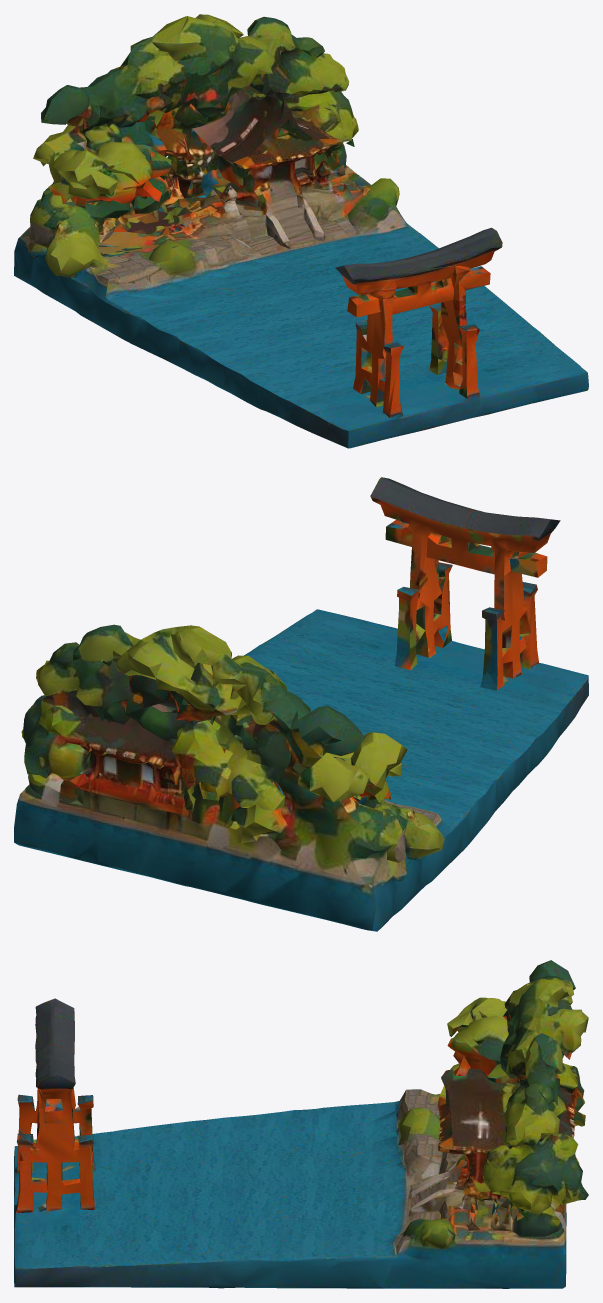
The model's file is shirahige-shrine-biwa.glb.
3 renders of one model, top to bottom at view 1: azimuth 30°, elevation 25°; view 2: azimuth 150°, elevation 25°; view 3: azimuth 270°, elevation 25°, orthographic. The views are drawn at different scales.
Visible parts, largest first — view 1: logan-textured.obj; view 2: logan-textured.obj; view 3: logan-textured.obj.
Boxes of the visible parts, x1,y1,x2,y2 form: logan-textured.obj: (14,14,588,448); logan-textured.obj: (14,477,588,931); logan-textured.obj: (14,960,588,1288).
Size of the model in its own units: 0.7119 by 0.4478 by 1.
Materials: 1 (1 with a texture image).
